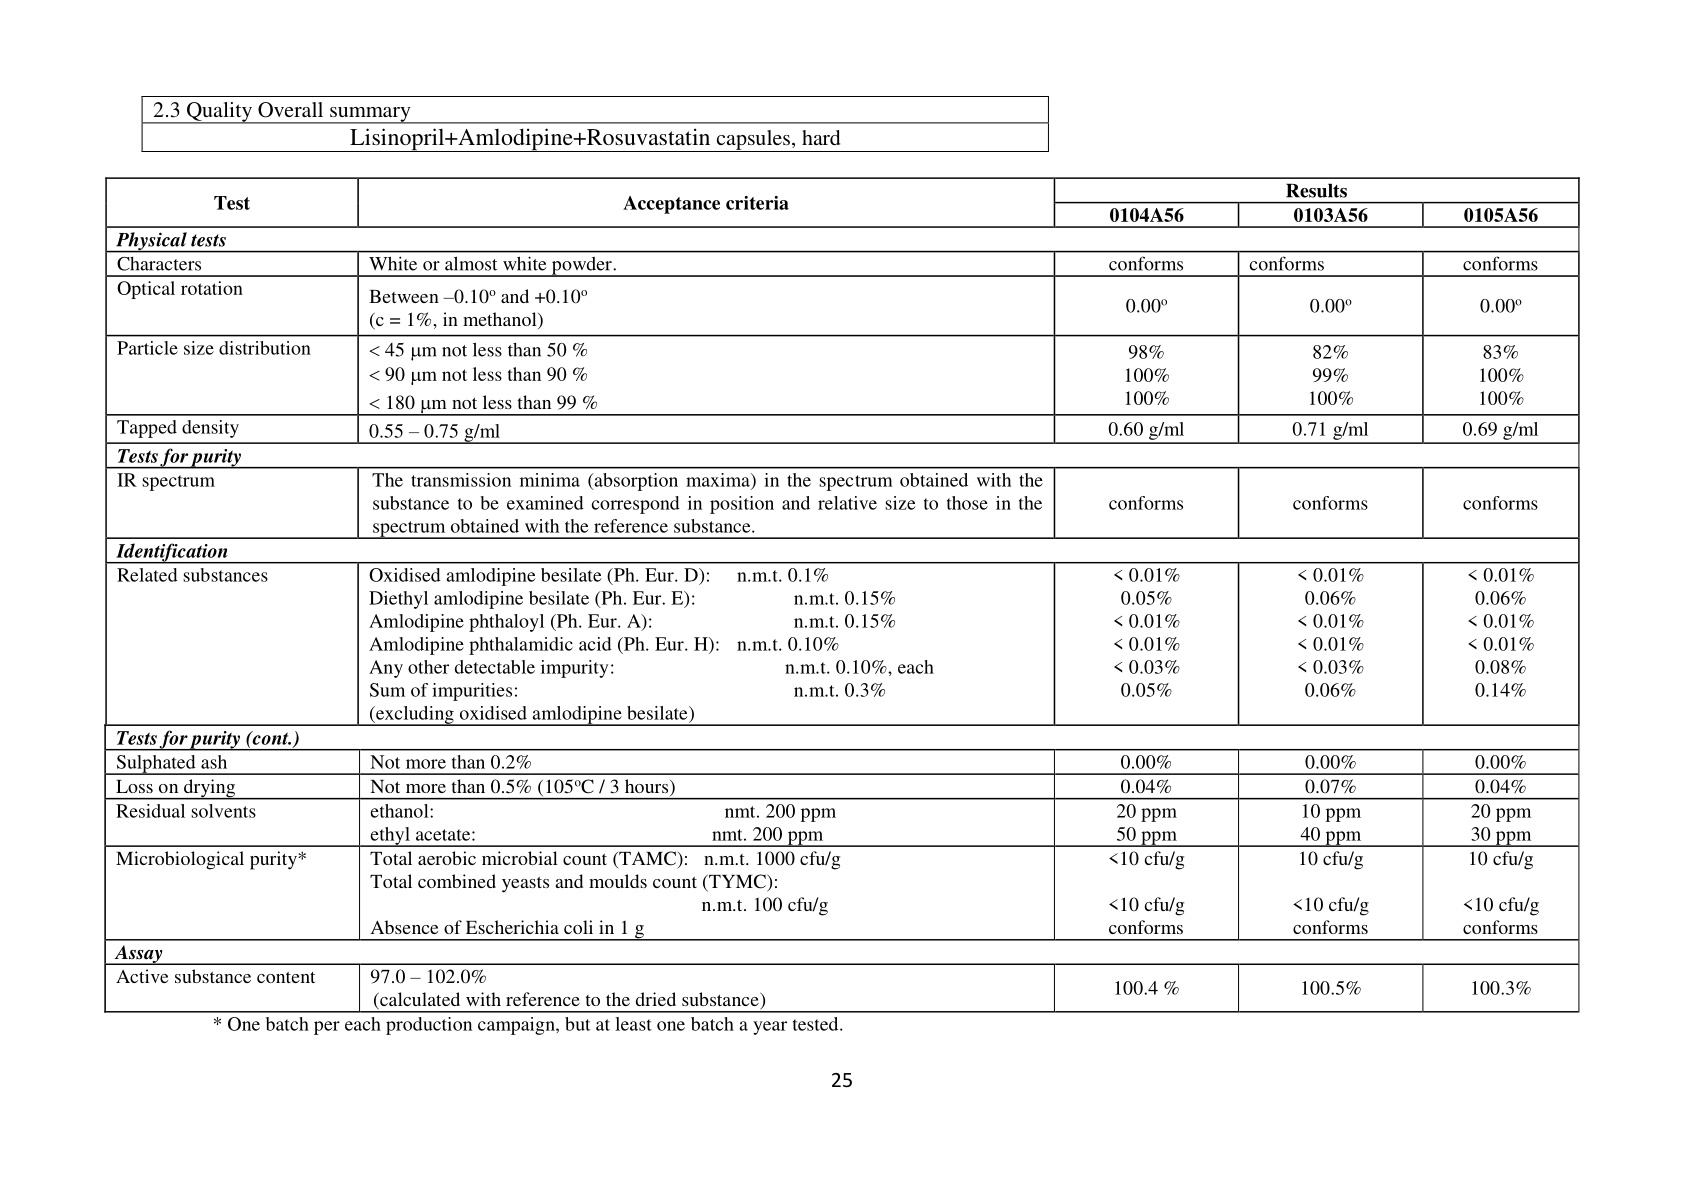full_lined: (140, 95, 1049, 153)
merged_cells: (104, 177, 1580, 1013)
